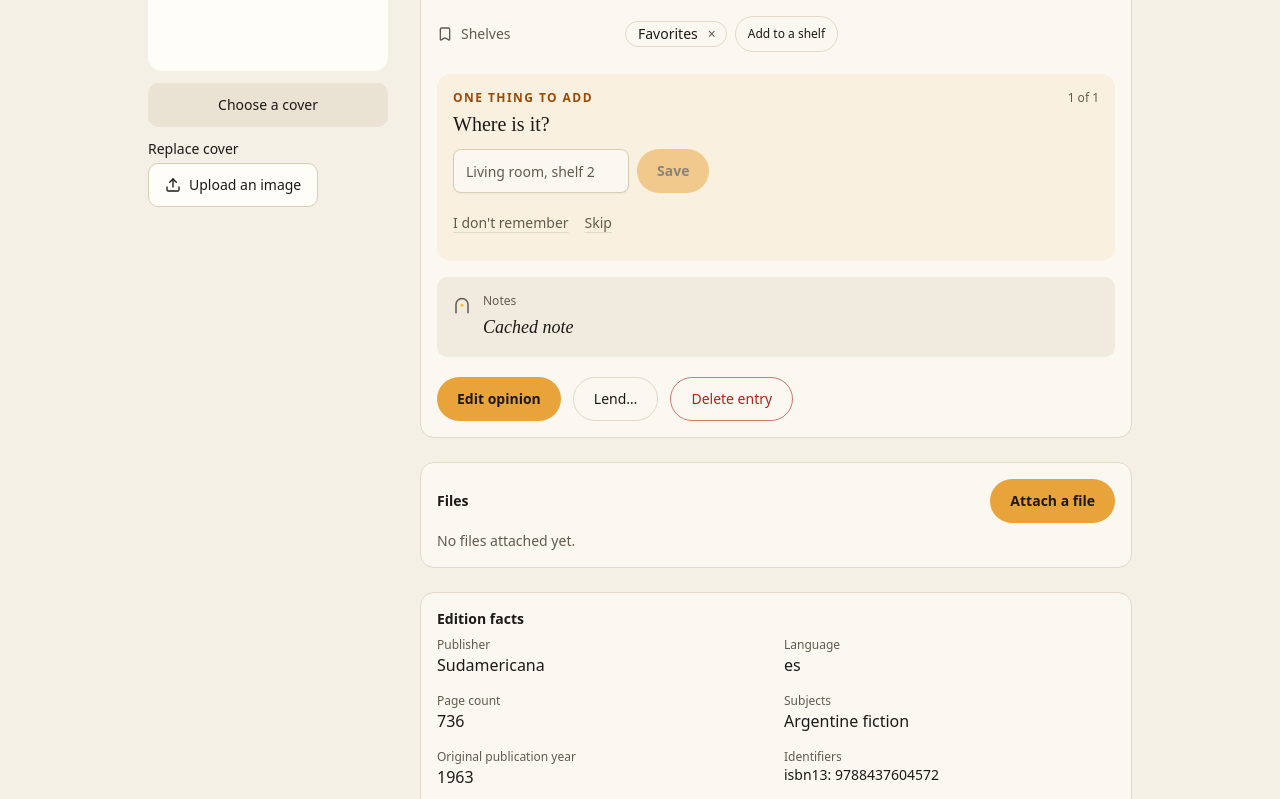
Test: DetailPage › does not offer shelves in the opinion dialog any more
(page scrolled)
Click the button "Edit opinion" at (499, 399), box [437,377,561,421]
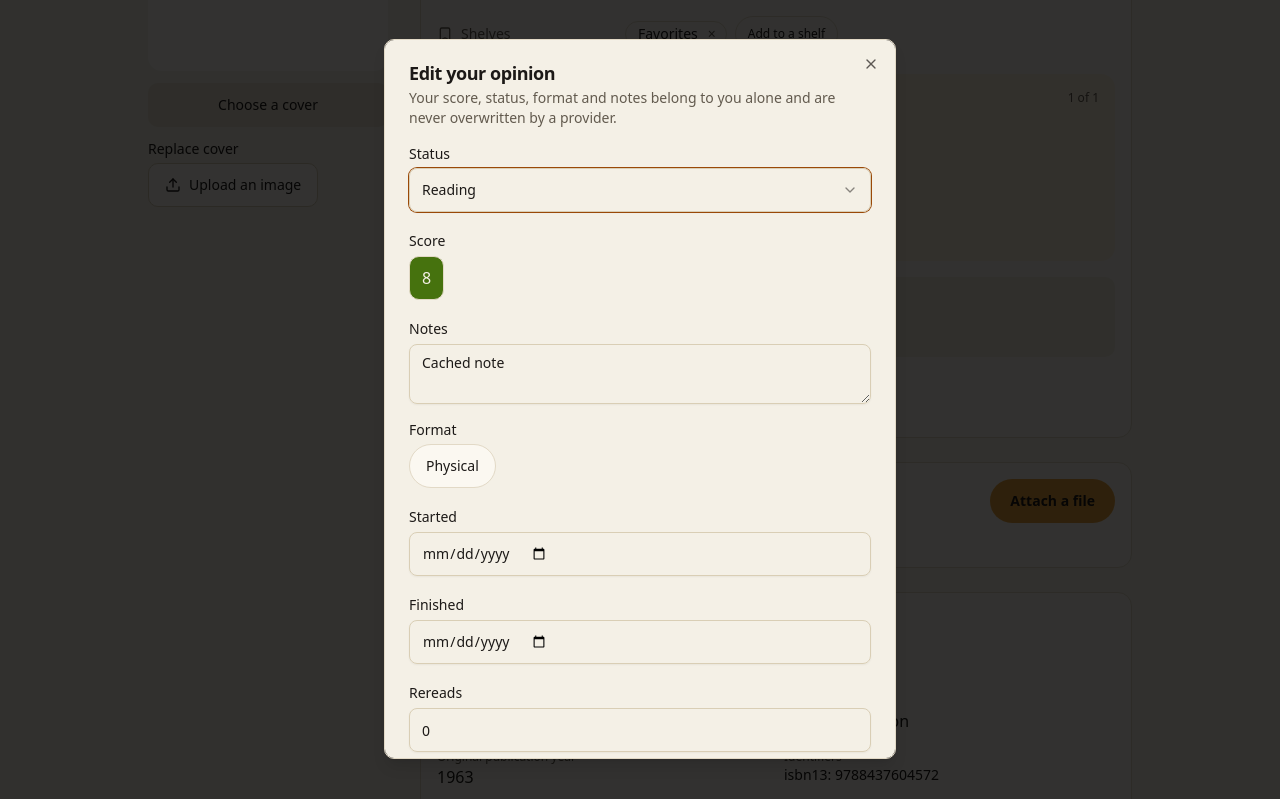
Expected: the text "Format" is shown, [409,420,456,439]
